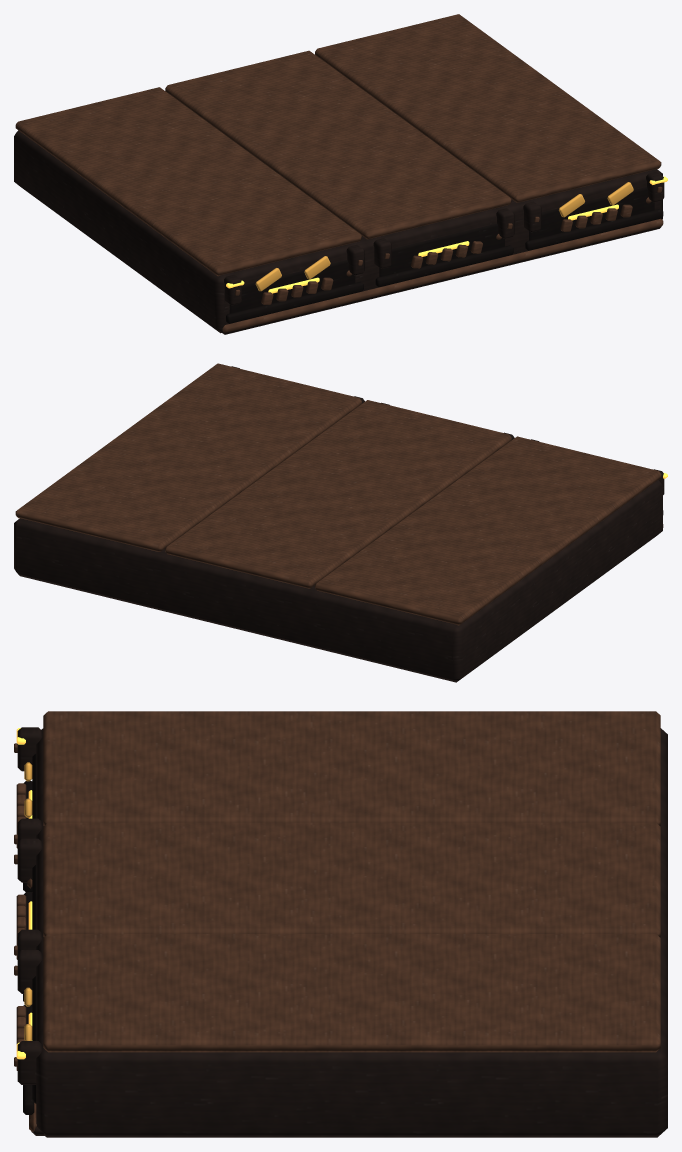
Rendered from transfer_bridge.glb.
3 views of the same model, one above another, from view 1: azimuth 30°, elevation 25°; view 2: azimuth 150°, elevation 25°; view 3: azimuth 270°, elevation 25° (orthographic). The views are drawn at different scales.
Visible parts, largest first — view 1: transfer_bridge - Burnished nickel, transfer_bridge - Heat-treated steel, transfer_bridge - Cast iron, transfer_bridge - Safety enamel.001, transfer_bridge - Molten amber; view 2: transfer_bridge - Burnished nickel, transfer_bridge - Heat-treated steel; view 3: transfer_bridge - Burnished nickel, transfer_bridge - Heat-treated steel, transfer_bridge - Cast iron.
Boxes of the visible parts, x1,y1,x2,y2 form: transfer_bridge - Burnished nickel: (15,14,663,332); transfer_bridge - Heat-treated steel: (14,130,664,334); transfer_bridge - Cast iron: (226,187,663,323); transfer_bridge - Safety enamel.001: (255,182,633,291); transfer_bridge - Molten amber: (226,176,667,293); transfer_bridge - Burnished nickel: (15,363,663,625); transfer_bridge - Heat-treated steel: (14,366,664,682); transfer_bridge - Burnished nickel: (14,711,660,1132); transfer_bridge - Heat-treated steel: (17,727,667,1137); transfer_bridge - Cast iron: (23,754,36,1114).
Size of the model in its own units: 5.99 by 0.84 by 4.97.
5 materials, 3 textured.
